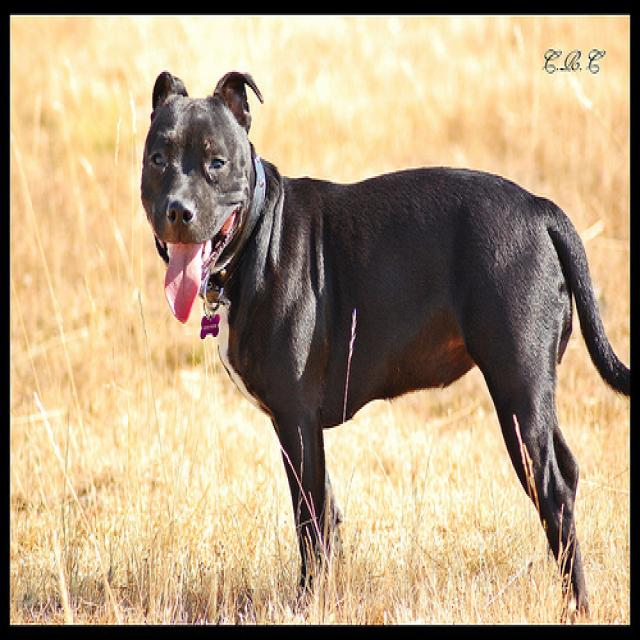dog-staffordshire_bull_terrier: (132, 55, 636, 627)
